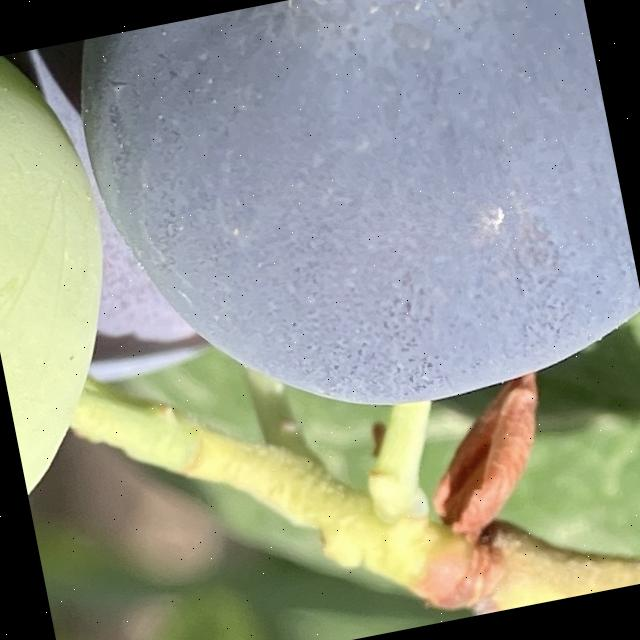Blueberries: (65, 0, 640, 464)
